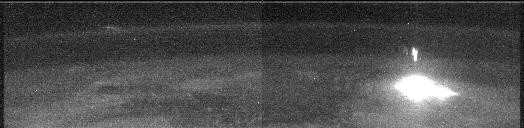positive: (403, 46, 421, 64)
